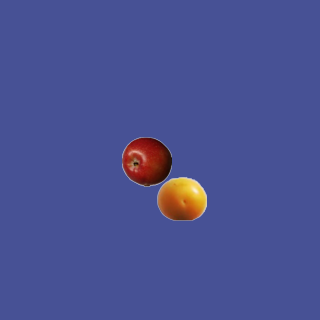Apple Braeburn: (121, 136, 171, 186)
Cherry Wax Yellow: (156, 173, 206, 223)
